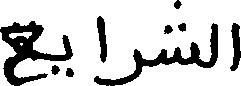X: (0, 16, 41, 85), (164, 0, 197, 69), (106, 39, 139, 85), (232, 18, 240, 75), (98, 11, 104, 85), (63, 30, 70, 81), (212, 18, 216, 71)
